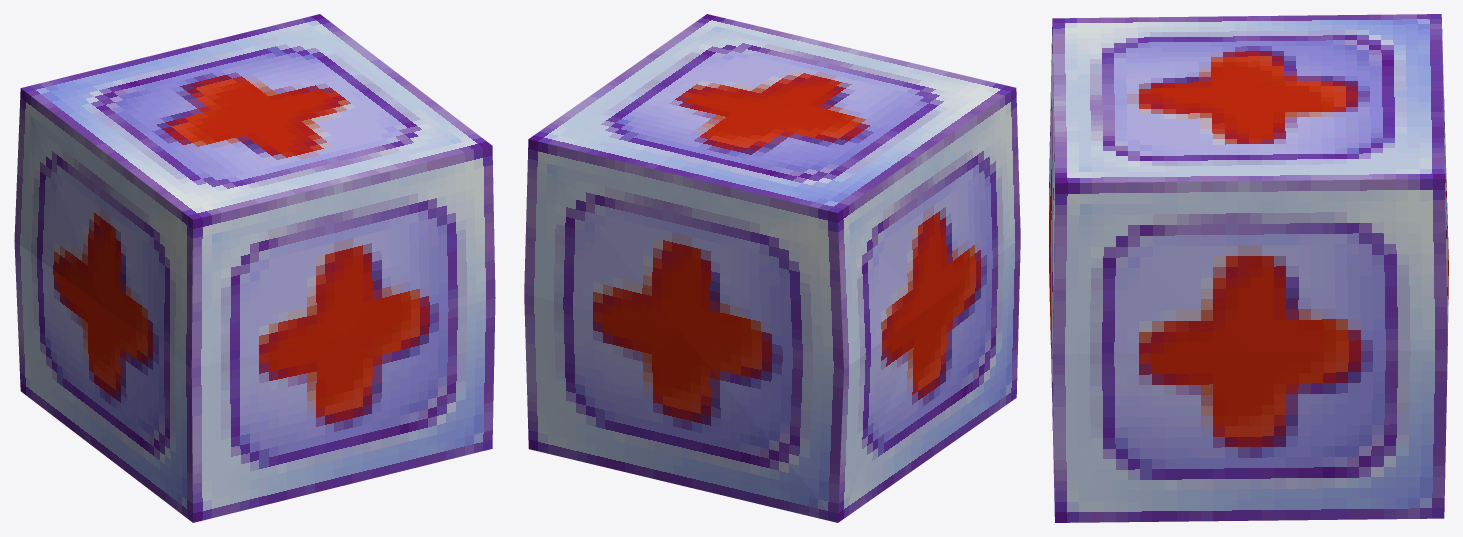
Rendered from Health Crate.obj.
3 renders of one model, left to right at view 1: azimuth 30°, elevation 25°; view 2: azimuth 150°, elevation 25°; view 3: azimuth 270°, elevation 25°, orthographic. The views are drawn at different scales.
Visible parts, largest first — view 1: Inst3D_RefRep.226; view 2: Inst3D_RefRep.226; view 3: Inst3D_RefRep.226.
Part boxes in pixels (x1=…): Inst3D_RefRep.226: x1=14, y1=14, x2=495, y2=522; Inst3D_RefRep.226: x1=524, y1=14, x2=1020, y2=522; Inst3D_RefRep.226: x1=1049, y1=14, x2=1448, y2=522.
Bounding box in the file's own units: 0.0898 × 0.0852 × 0.0896.
